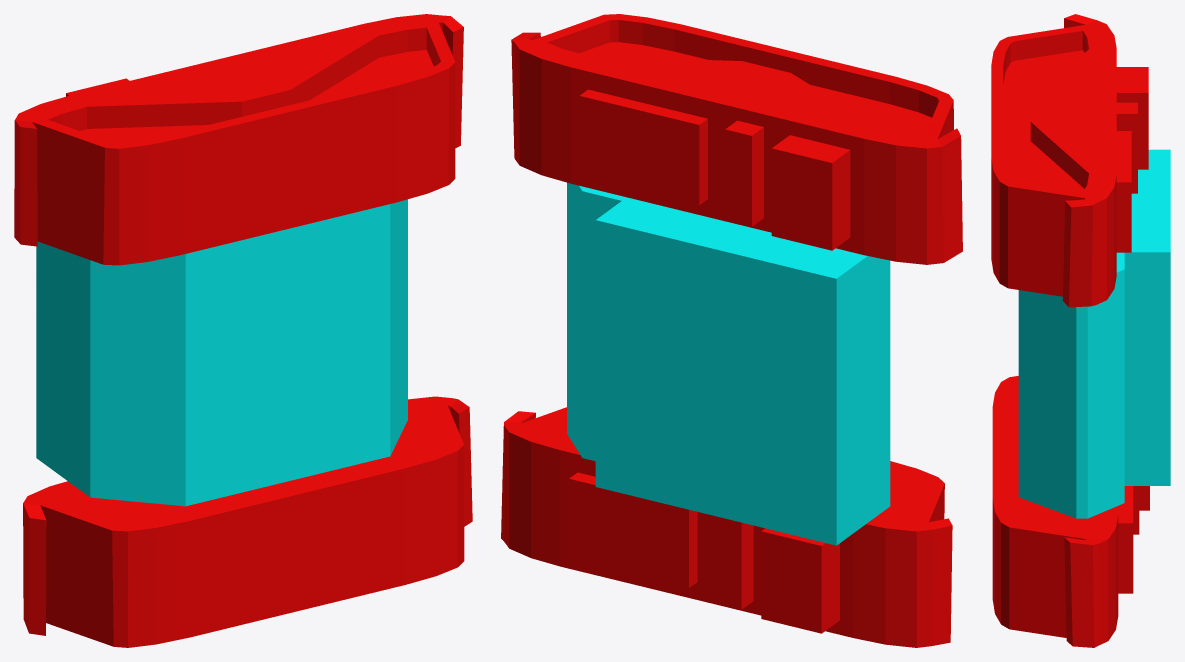
Rendered from Tank_Body.fbx.
The picture shows the model from 3 angles, left to right: view 1: azimuth 30°, elevation 25°; view 2: azimuth 150°, elevation 25°; view 3: azimuth 270°, elevation 25°; orthographic projection. The views are drawn at different scales.
Visible parts, largest first — view 1: Cube.002; view 2: Cube.002; view 3: Cube.002.
Part boxes in pixels (bbox=[...]): Cube.002: bbox=[14, 14, 472, 647]; Cube.002: bbox=[501, 14, 962, 647]; Cube.002: bbox=[991, 14, 1170, 647].
Size of the model in its own units: 220 by 237 by 86.45.
Materials: 1 (1 with a texture image).
